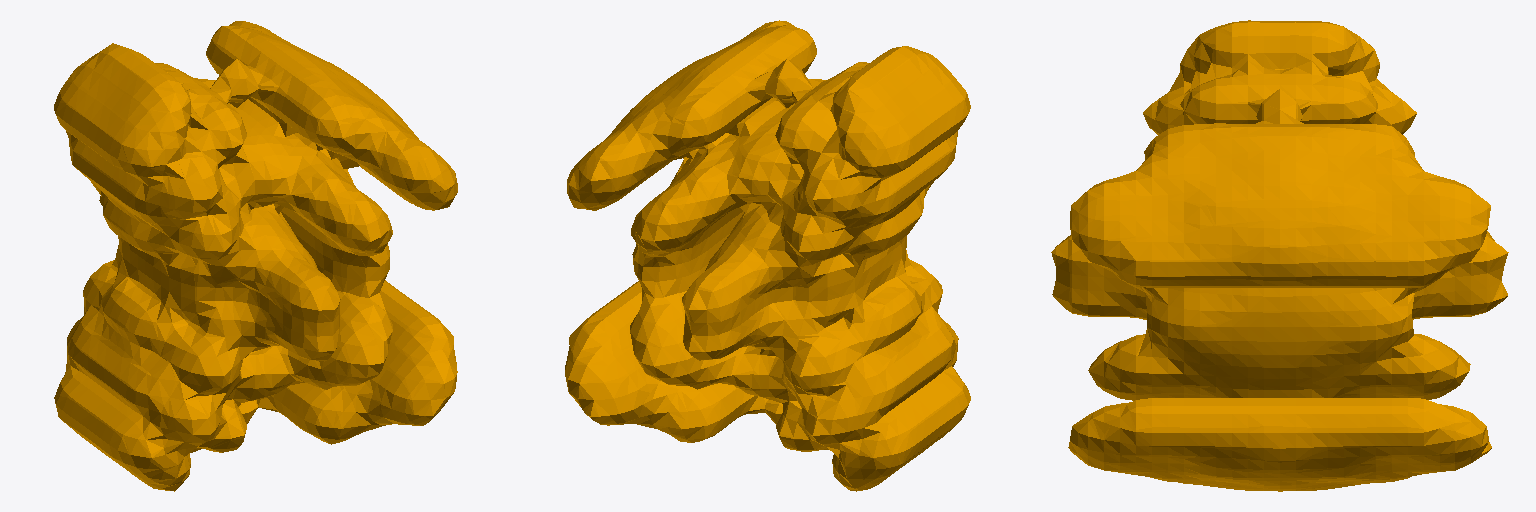
The robot description file, URDF, robot "H21_2":
<?xml version="1.0"?>
<robot name="H21_2">
  <link name="base_link">
    <visual>
      <geometry>
        <mesh filename="../../../../meshes/egad/train/H21_2.obj" />
      </geometry>
    </visual>
  </link>
</robot>

--- Facts derived from the render (not from the file) ---
Views: 3 orthographic renders of the robot side by side, from view 1: azimuth 30°, elevation 25°; view 2: azimuth 150°, elevation 25°; view 3: azimuth 270°, elevation 25°.
Robot: H21_2 — 1 links, 0 joints (none); root link base_link; default pose: every joint at zero.
Visible links, largest first — view 1: base_link; view 2: base_link; view 3: base_link.
Boxes of the visible links, box(x1,y1,x2,y2) form: base_link: box(54, 21, 457, 491); base_link: box(565, 20, 970, 491); base_link: box(1051, 20, 1508, 491).
Bounding box of the posed robot: 0.0576 × 0.0735 × 0.075 m (x, y, z).
1 mesh visuals loaded from 1 distinct referenced files (1 OBJ).